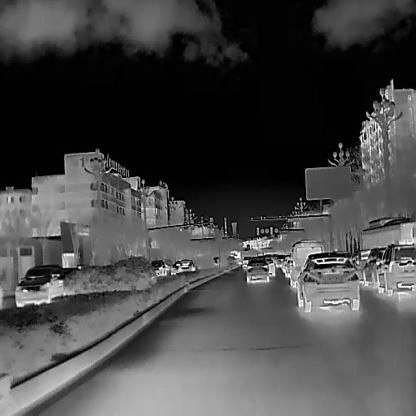car: (295, 253, 359, 311), (374, 241, 416, 296), (15, 264, 66, 309), (290, 239, 323, 289), (360, 244, 387, 288), (245, 255, 269, 281), (348, 249, 370, 269), (149, 258, 165, 276), (263, 254, 275, 276), (177, 258, 194, 272), (169, 261, 183, 274)
